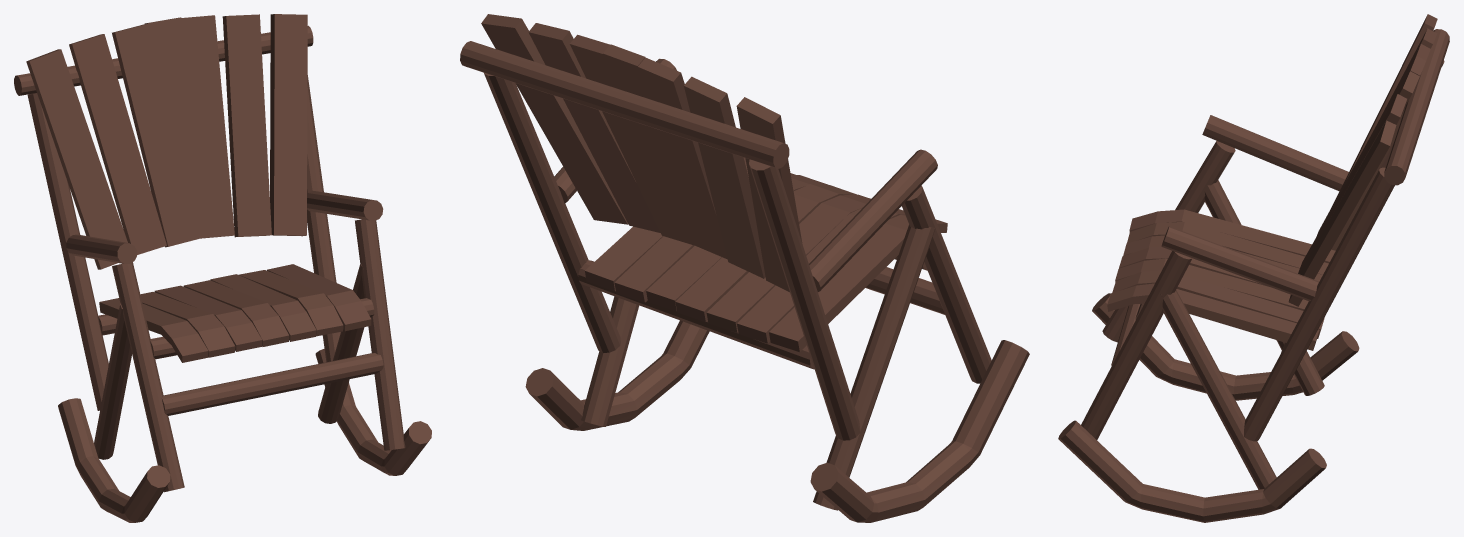
3 renders of one model, left to right at view 1: azimuth 30°, elevation 25°; view 2: azimuth 150°, elevation 25°; view 3: azimuth 270°, elevation 25°, orthographic. The views are drawn at different scales.
Parts seen in each view (by area): view 1: node_MeshObject1601286144-PolyPaper20; view 2: node_MeshObject1601286144-PolyPaper20; view 3: node_MeshObject1601286144-PolyPaper20.
Boxes of the visible parts, x1,y1,x2,y2 form: node_MeshObject1601286144-PolyPaper20: (14, 14, 431, 522); node_MeshObject1601286144-PolyPaper20: (460, 14, 1029, 522); node_MeshObject1601286144-PolyPaper20: (1058, 14, 1449, 522).
Size of the model in its own units: 0.9859 by 1.22 by 1.06.
